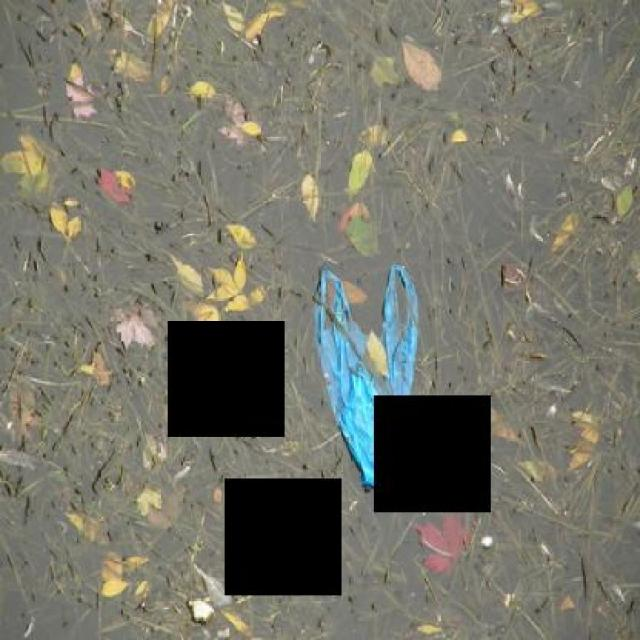plastic bag: (312, 263, 428, 489)
